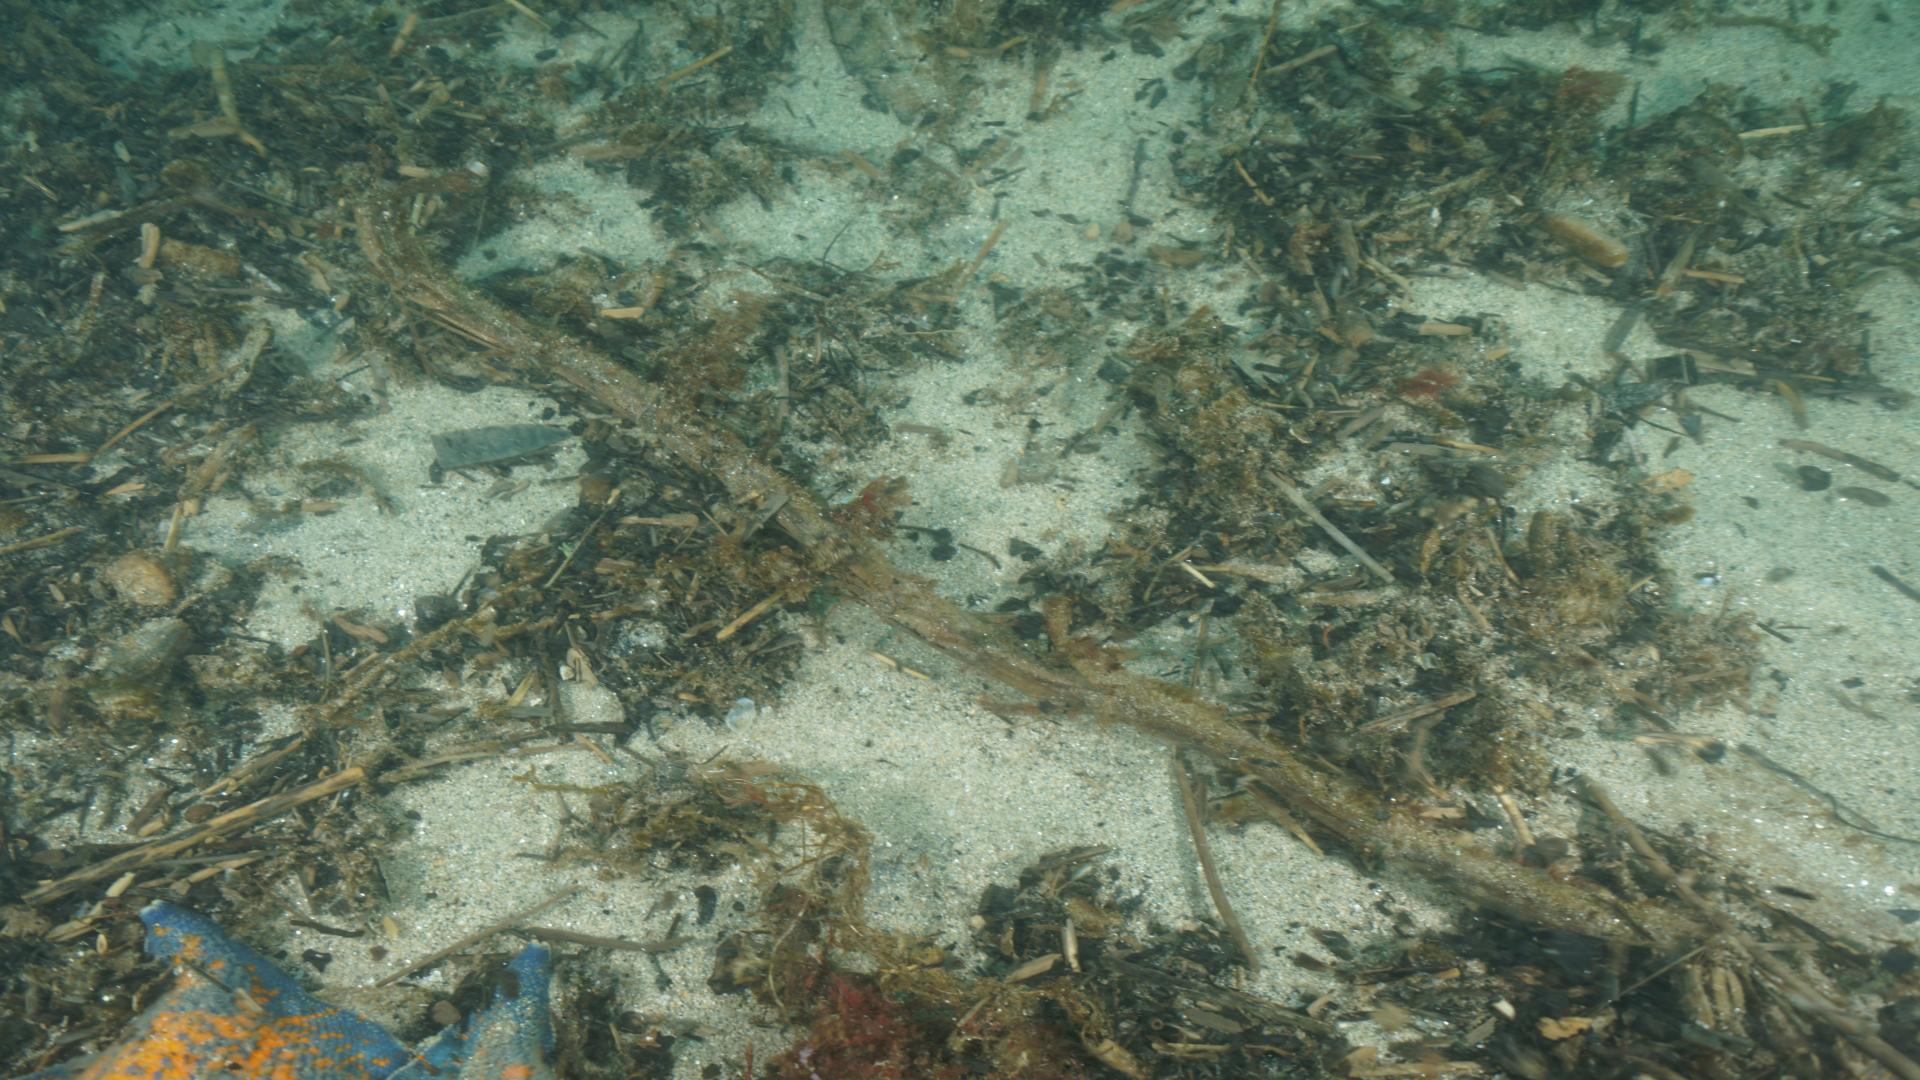wood: (404, 258, 1687, 955)
